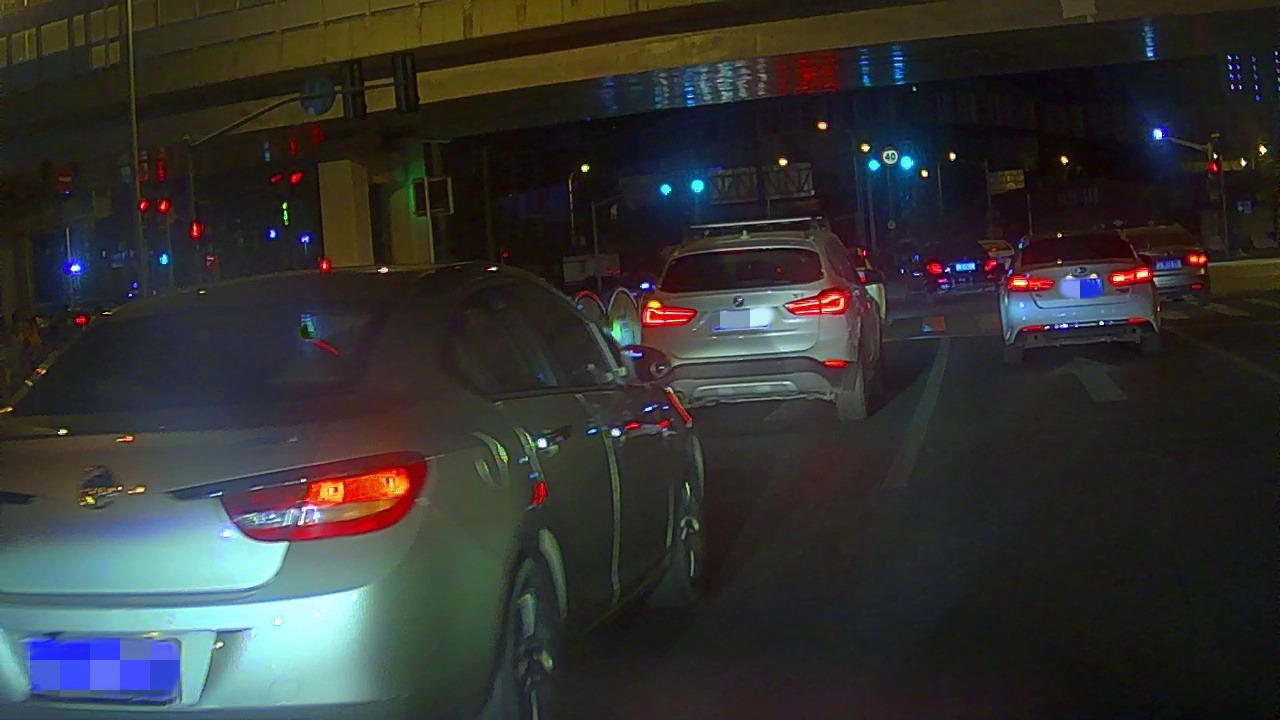traffic_light: (684, 174, 710, 197), (896, 154, 918, 173), (656, 180, 676, 200), (865, 156, 882, 176)
